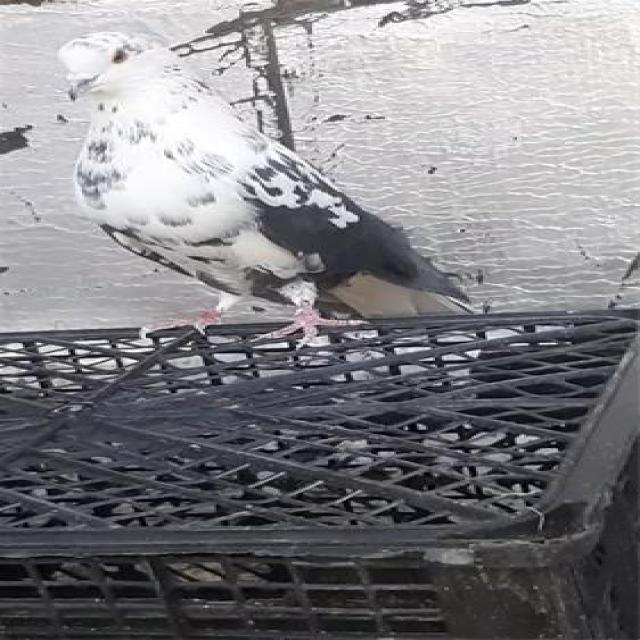bird: (54, 27, 496, 360)
